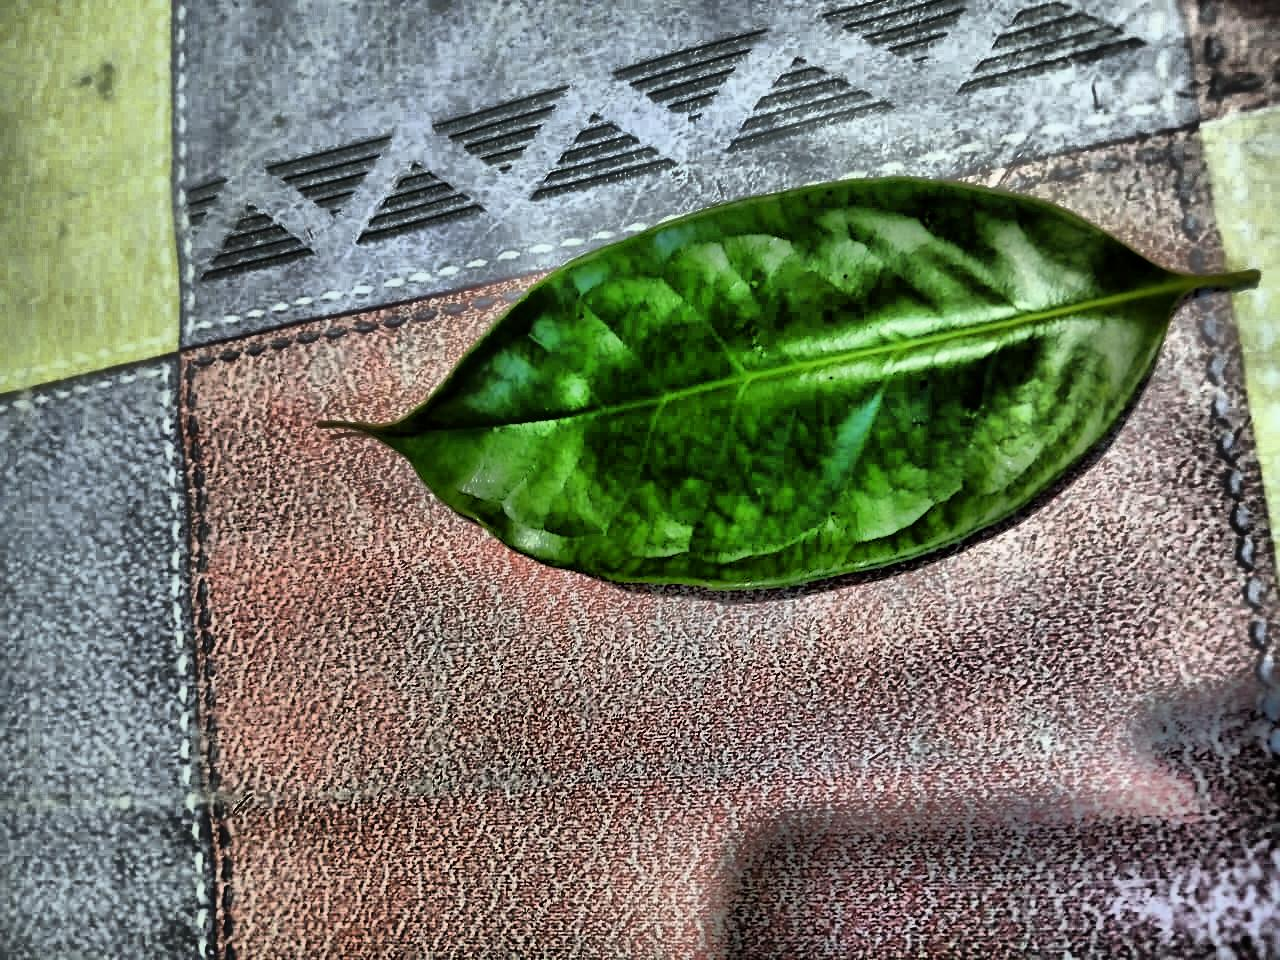daun salam: (321, 177, 1257, 588)
